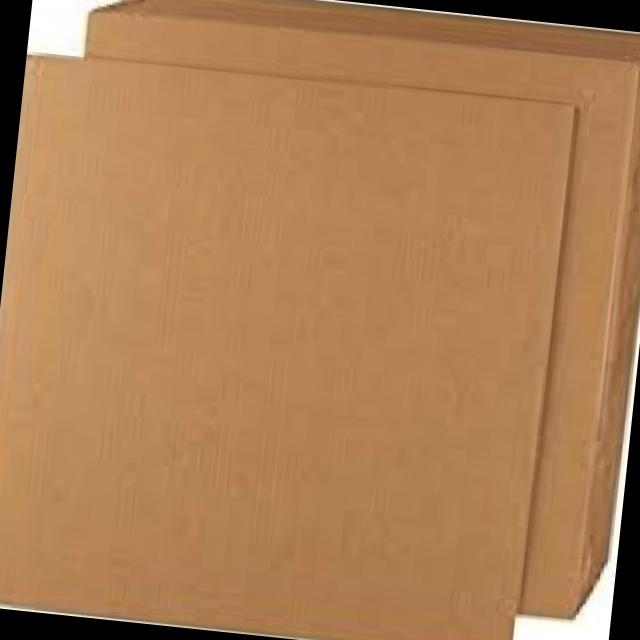cardboard paper: (86, 0, 640, 615), (0, 54, 574, 640)
